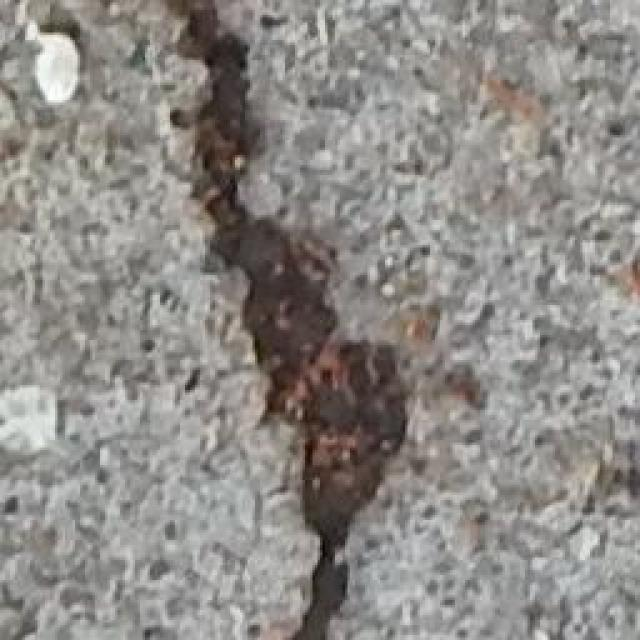concrete-crack: (169, 0, 498, 640)
